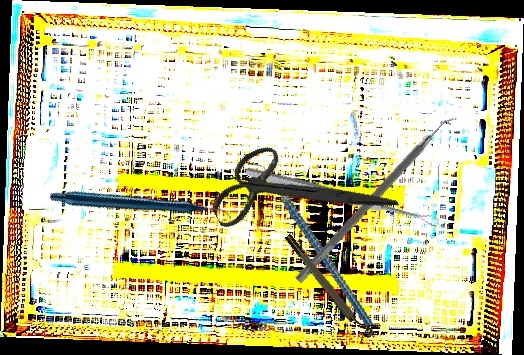Chopper: (247, 142, 373, 346)
Fixation Ring: (282, 228, 376, 345)
Handpiece: (48, 117, 233, 298)
Iris Scissors: (197, 102, 400, 285)
Spatula Surgical: (294, 108, 461, 291)
Surgical Spoon: (244, 164, 441, 230)
